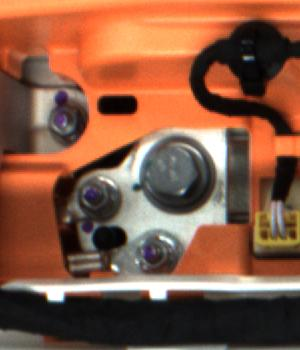nut_b: (130, 127, 230, 214)
screw_s: (135, 229, 172, 270), (78, 174, 110, 216), (44, 103, 77, 137)
